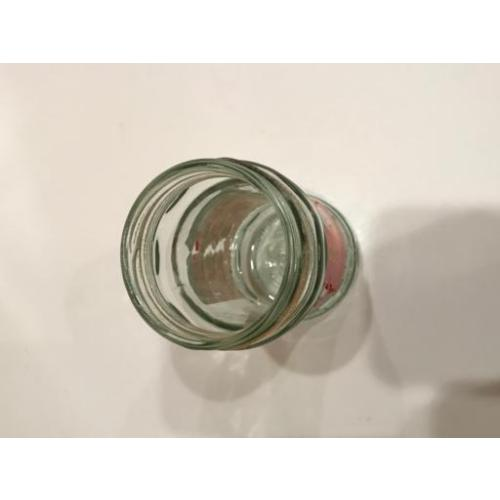glass: (126, 157, 355, 348)
